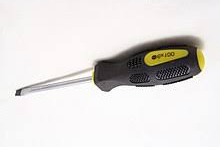screwdriver: (14, 33, 206, 100)
